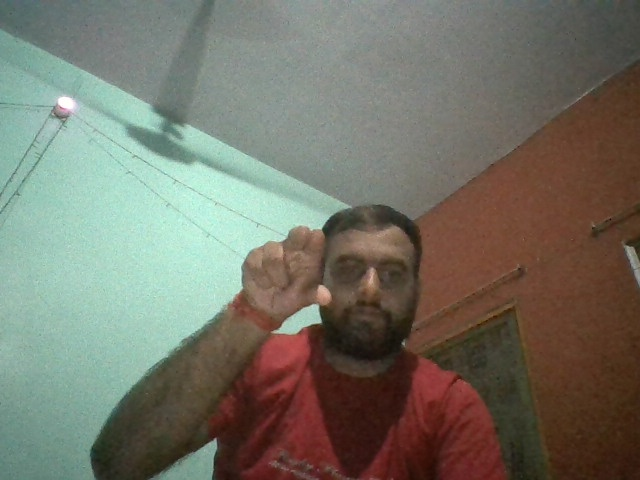no: (241, 225, 332, 305)
